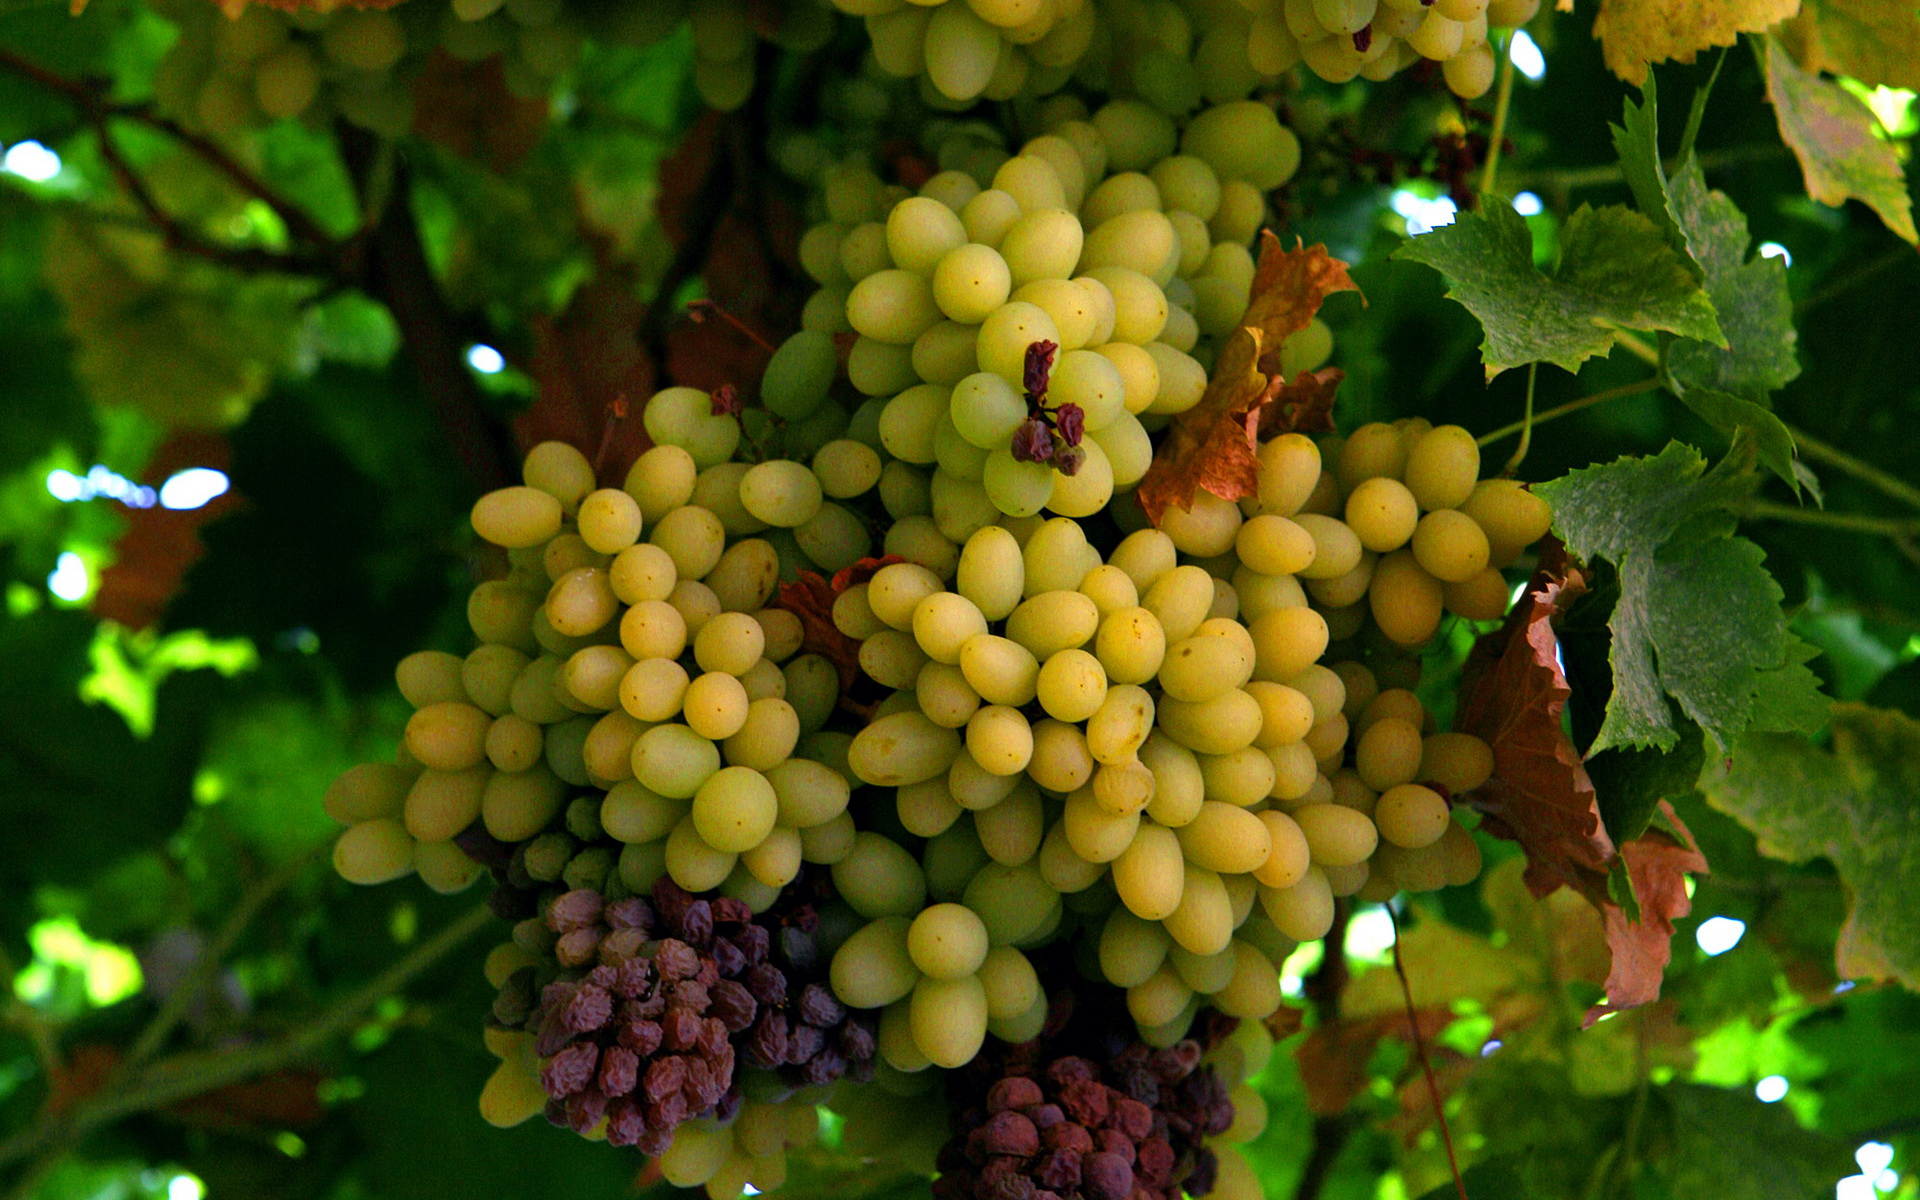grapes: (828, 158, 1541, 1042), (376, 426, 851, 911)
